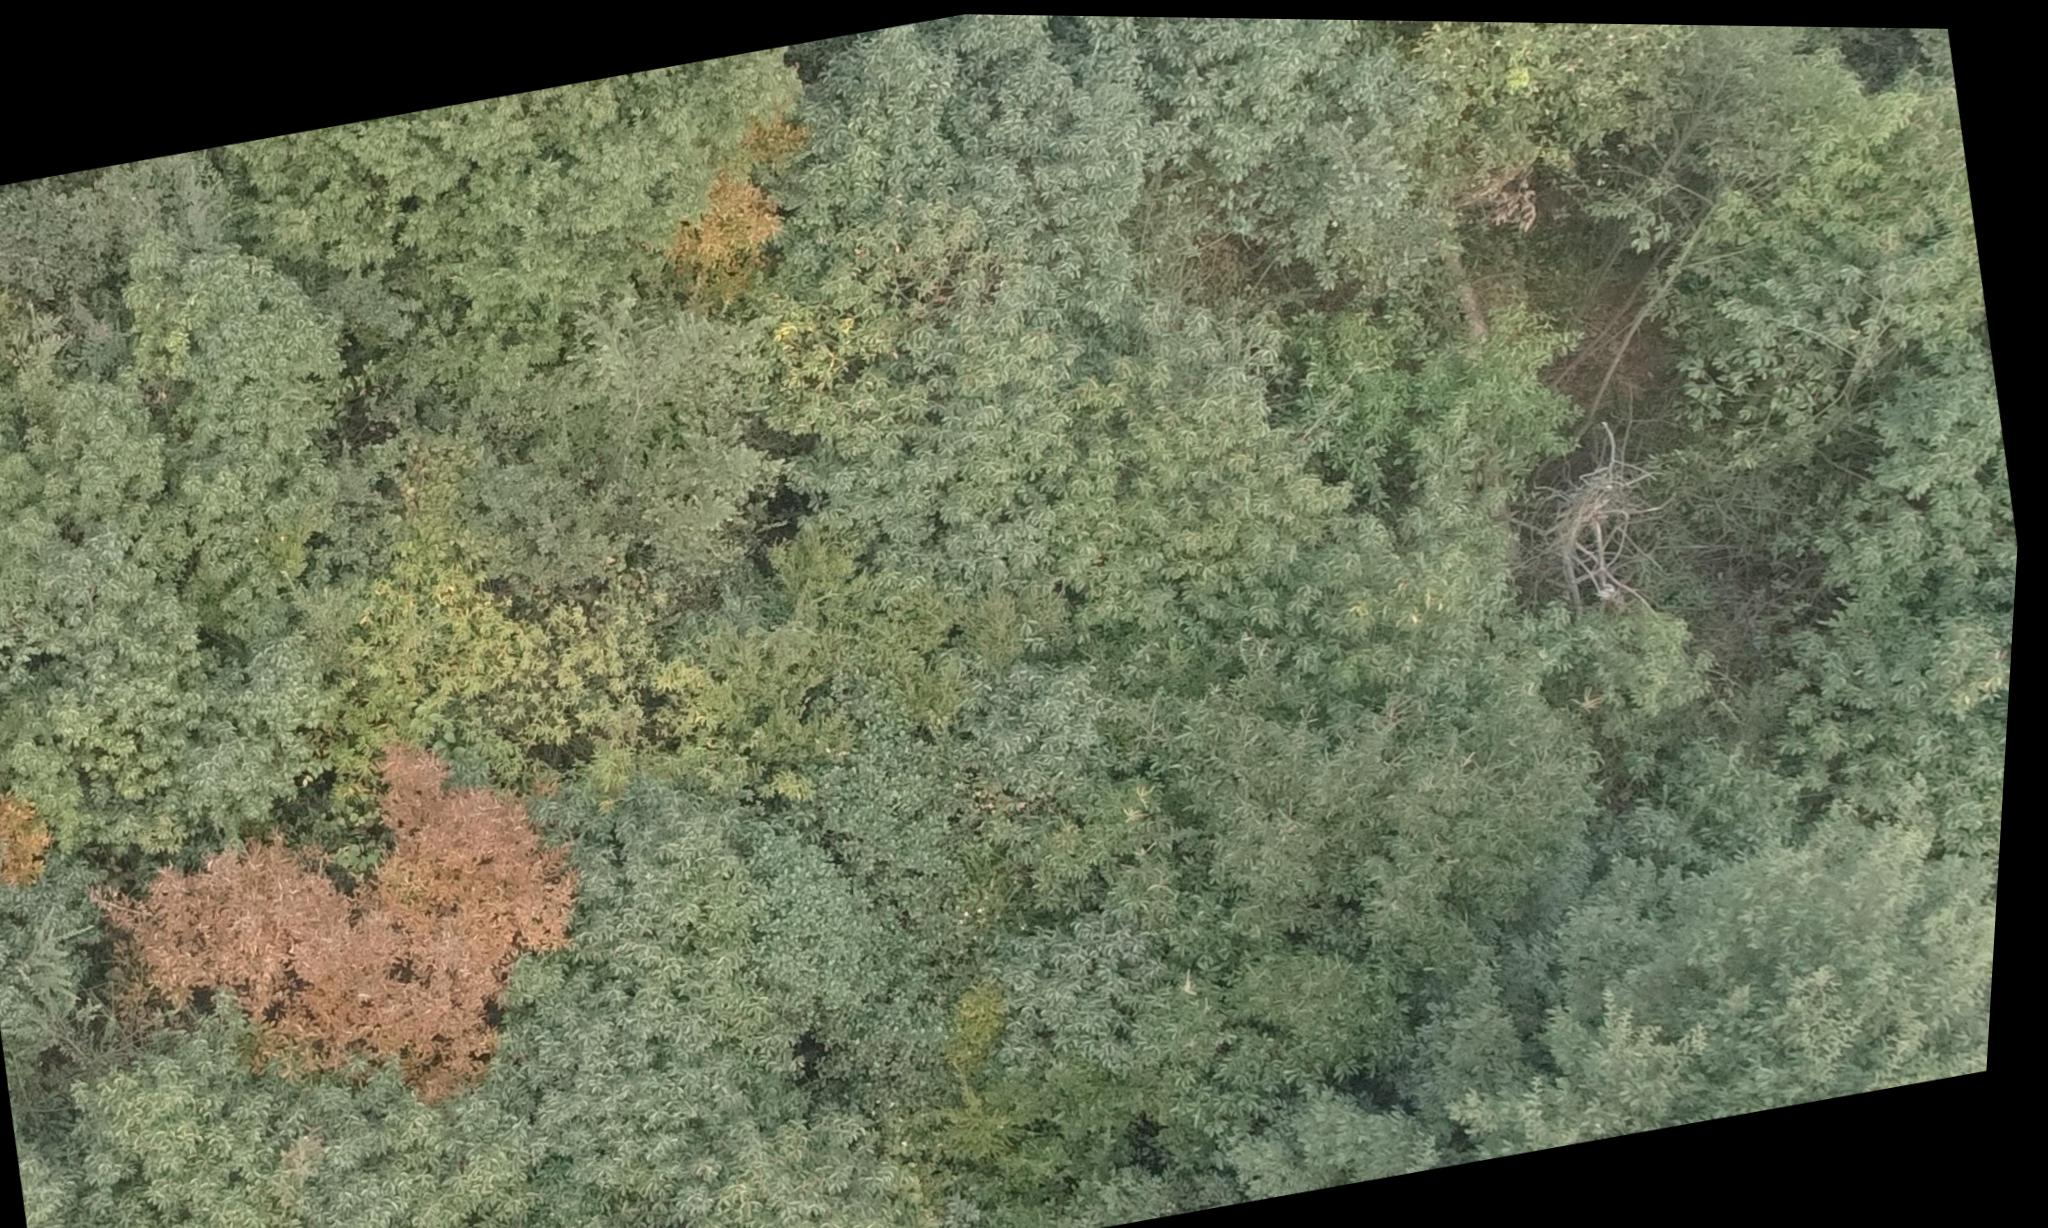dead: (1494, 409, 1718, 653)
